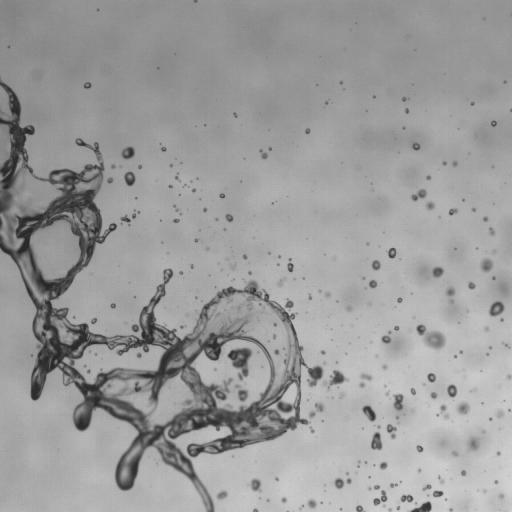droplet: (227, 347, 252, 381), (416, 324, 445, 350), (322, 370, 348, 389), (488, 301, 504, 316), (362, 405, 376, 421), (373, 490, 387, 505), (371, 432, 382, 450), (392, 393, 403, 410), (334, 478, 351, 489), (359, 373, 372, 387), (411, 189, 426, 201), (121, 146, 134, 159), (480, 258, 492, 272), (124, 171, 135, 186), (438, 404, 449, 419), (456, 402, 469, 414), (249, 478, 261, 491), (386, 424, 396, 439), (447, 384, 457, 398), (432, 266, 443, 277), (381, 331, 391, 343), (468, 438, 478, 450), (400, 494, 413, 502), (216, 490, 227, 499), (387, 248, 396, 258), (307, 499, 317, 508), (427, 373, 436, 382), (372, 260, 380, 270), (426, 201, 434, 210), (121, 215, 130, 223), (287, 259, 293, 271), (433, 490, 443, 497), (369, 280, 377, 288), (379, 461, 387, 469), (260, 150, 267, 159), (412, 142, 419, 150), (449, 208, 457, 215), (225, 214, 233, 221), (496, 410, 504, 417), (422, 484, 431, 490), (355, 505, 364, 511), (468, 282, 475, 289), (416, 445, 423, 452), (278, 278, 284, 286), (84, 82, 91, 88), (132, 211, 138, 218), (430, 392, 437, 398), (438, 476, 444, 483), (107, 177, 113, 183), (489, 228, 494, 235), (91, 318, 96, 324), (136, 352, 141, 358), (410, 388, 415, 394), (309, 427, 314, 433), (175, 174, 179, 181), (491, 121, 496, 126), (305, 128, 310, 133), (452, 161, 457, 166), (219, 193, 224, 198), (483, 216, 488, 221), (325, 292, 330, 297), (110, 303, 115, 308), (271, 334, 276, 339), (506, 374, 511, 379), (452, 451, 457, 456), (461, 470, 466, 475), (281, 497, 286, 502), (173, 218, 179, 222), (390, 483, 396, 487), (373, 485, 379, 489), (161, 147, 166, 151), (426, 175, 430, 180), (243, 254, 247, 259), (230, 265, 235, 269), (397, 298, 402, 302), (394, 326, 399, 330), (382, 365, 387, 369), (339, 393, 344, 397), (252, 508, 258, 511), (405, 109, 409, 113), (442, 161, 446, 165), (111, 164, 115, 168), (347, 307, 351, 311), (321, 350, 325, 354), (496, 451, 500, 455), (499, 494, 503, 498), (308, 294, 311, 299), (402, 97, 406, 100), (233, 113, 237, 116), (192, 188, 195, 192), (174, 206, 177, 210), (190, 264, 193, 268), (180, 325, 184, 328), (87, 369, 90, 373), (471, 388, 475, 391), (396, 506, 400, 509), (471, 102, 474, 105), (138, 165, 141, 168), (203, 208, 206, 211), (179, 271, 182, 274), (248, 271, 251, 274), (485, 327, 488, 330), (385, 392, 388, 395), (449, 508, 452, 511), (193, 0, 197, 2), (268, 147, 271, 149), (169, 185, 171, 188), (472, 208, 474, 211), (195, 239, 198, 241), (500, 318, 503, 320), (489, 346, 491, 349), (460, 350, 462, 353), (454, 355, 456, 358), (358, 461, 360, 464), (418, 469, 421, 471), (495, 480, 497, 483), (368, 487, 371, 489), (300, 505, 302, 508), (388, 509, 391, 511), (215, 218, 217, 220), (396, 417, 398, 419), (489, 418, 491, 420), (377, 426, 379, 428), (276, 478, 278, 480), (483, 490, 485, 492)
ligament: (0, 78, 323, 511), (309, 402, 324, 418), (408, 501, 431, 511), (446, 287, 455, 303), (503, 342, 510, 348)
